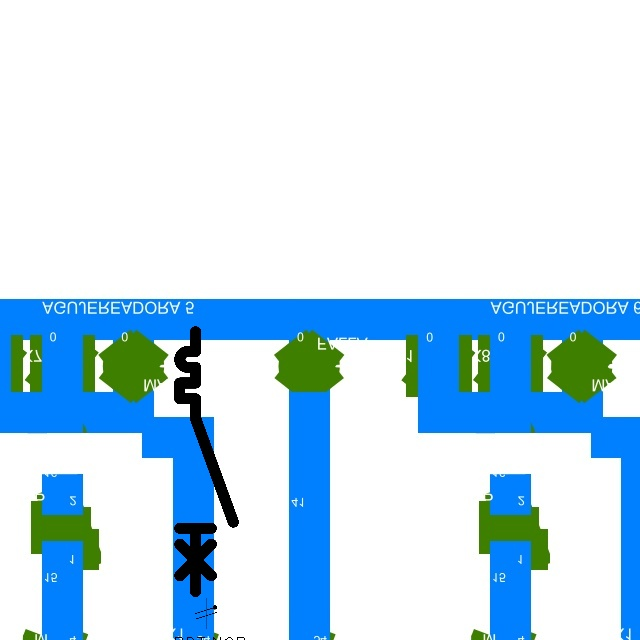interruptor_termomagnetico: (173, 325, 240, 598)
